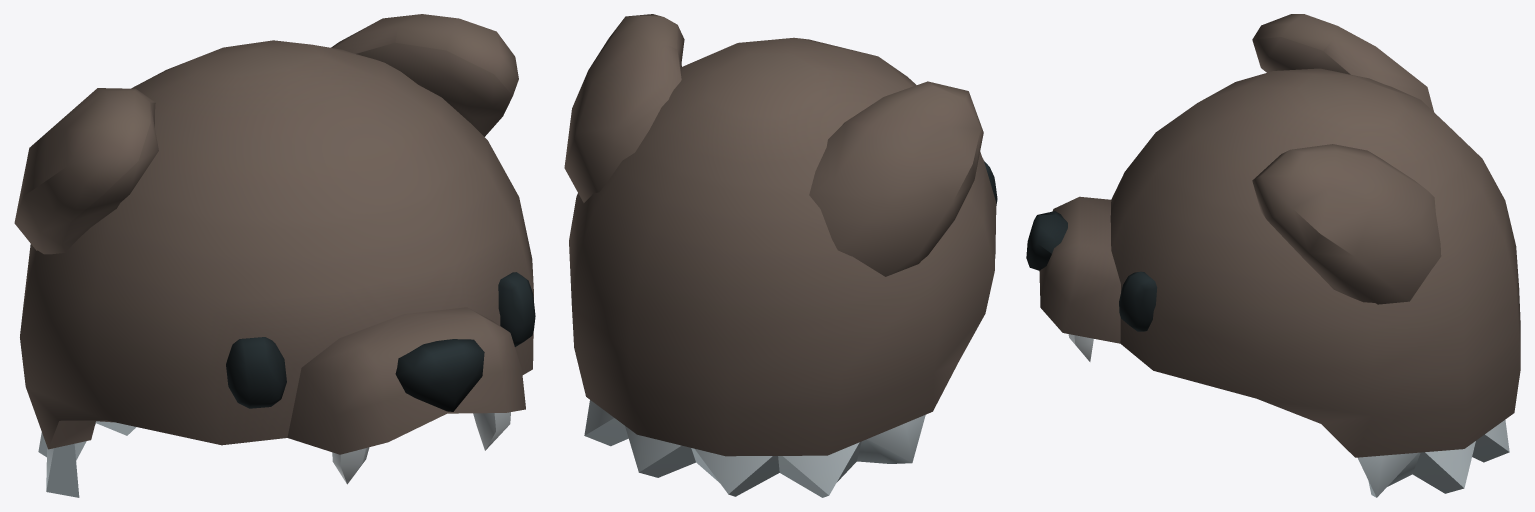
The model's file is bearhat.glb.
The picture shows the model from 3 angles, left to right: view 1: azimuth 30°, elevation 25°; view 2: azimuth 150°, elevation 25°; view 3: azimuth 270°, elevation 25°; orthographic projection. The views are drawn at different scales.
Parts seen in each view (by area): view 1: Barbarian_Hat; view 2: Barbarian_Hat; view 3: Barbarian_Hat.
Boxes of the visible parts, x1=… form: Barbarian_Hat: x1=14, y1=14, x2=535, y2=497; Barbarian_Hat: x1=564, y1=14, x2=997, y2=497; Barbarian_Hat: x1=1026, y1=14, x2=1520, y2=497.
Size of the model in its own units: 1.11 by 1.02 by 1.26.
Materials: 1 (1 with a texture image).
